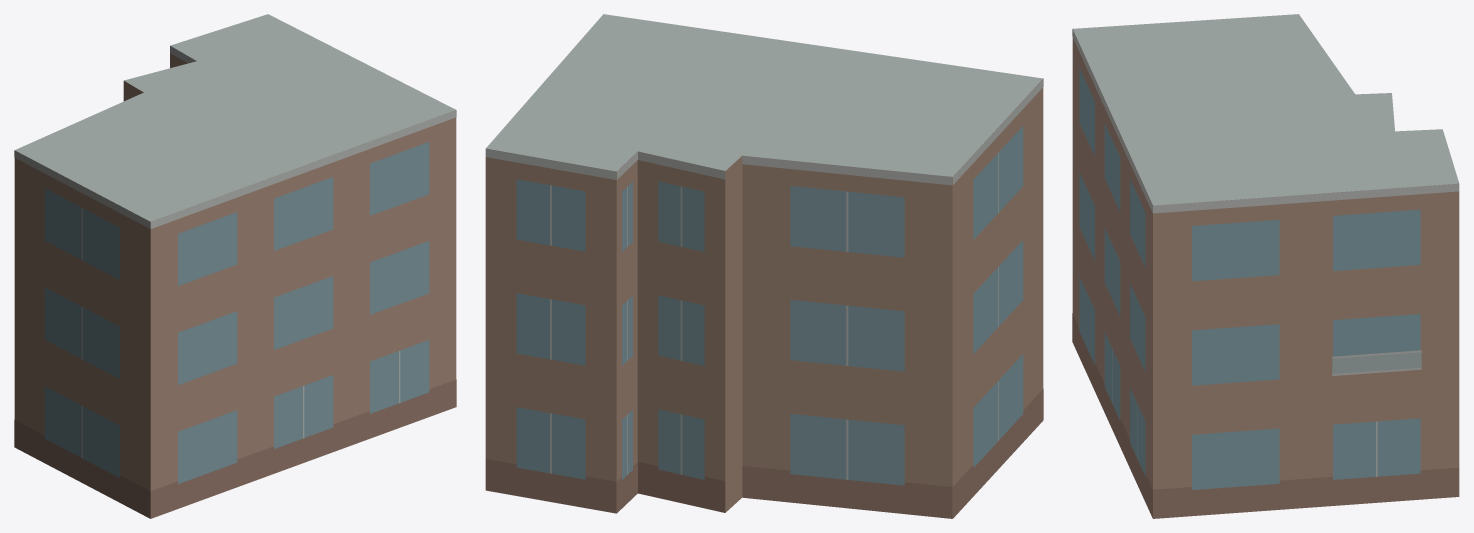
The model's file is survey-upis-32896103.glb.
3 views of the same model, side by side, from view 1: azimuth 30°, elevation 25°; view 2: azimuth 150°, elevation 25°; view 3: azimuth 270°, elevation 25° (orthographic). The views are drawn at different scales.
Parts seen in each view (by area): view 1: survey-upis-32896103.tmp; view 2: survey-upis-32896103.tmp; view 3: survey-upis-32896103.tmp.
Boxes of the visible parts, left/top/right/bottom form: survey-upis-32896103.tmp: left=14, top=14, right=456, bottom=518; survey-upis-32896103.tmp: left=485, top=14, right=1043, bottom=518; survey-upis-32896103.tmp: left=1072, top=14, right=1459, bottom=518.
Bounding box in the file's own units: 12.88 × 9.8 × 10.98.
